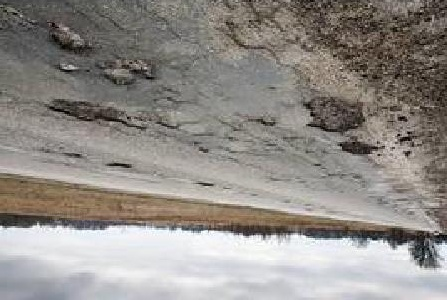pothole: (45, 98, 145, 133), (303, 96, 368, 134), (96, 57, 154, 87), (45, 19, 92, 54), (336, 140, 382, 158), (55, 62, 82, 73)
